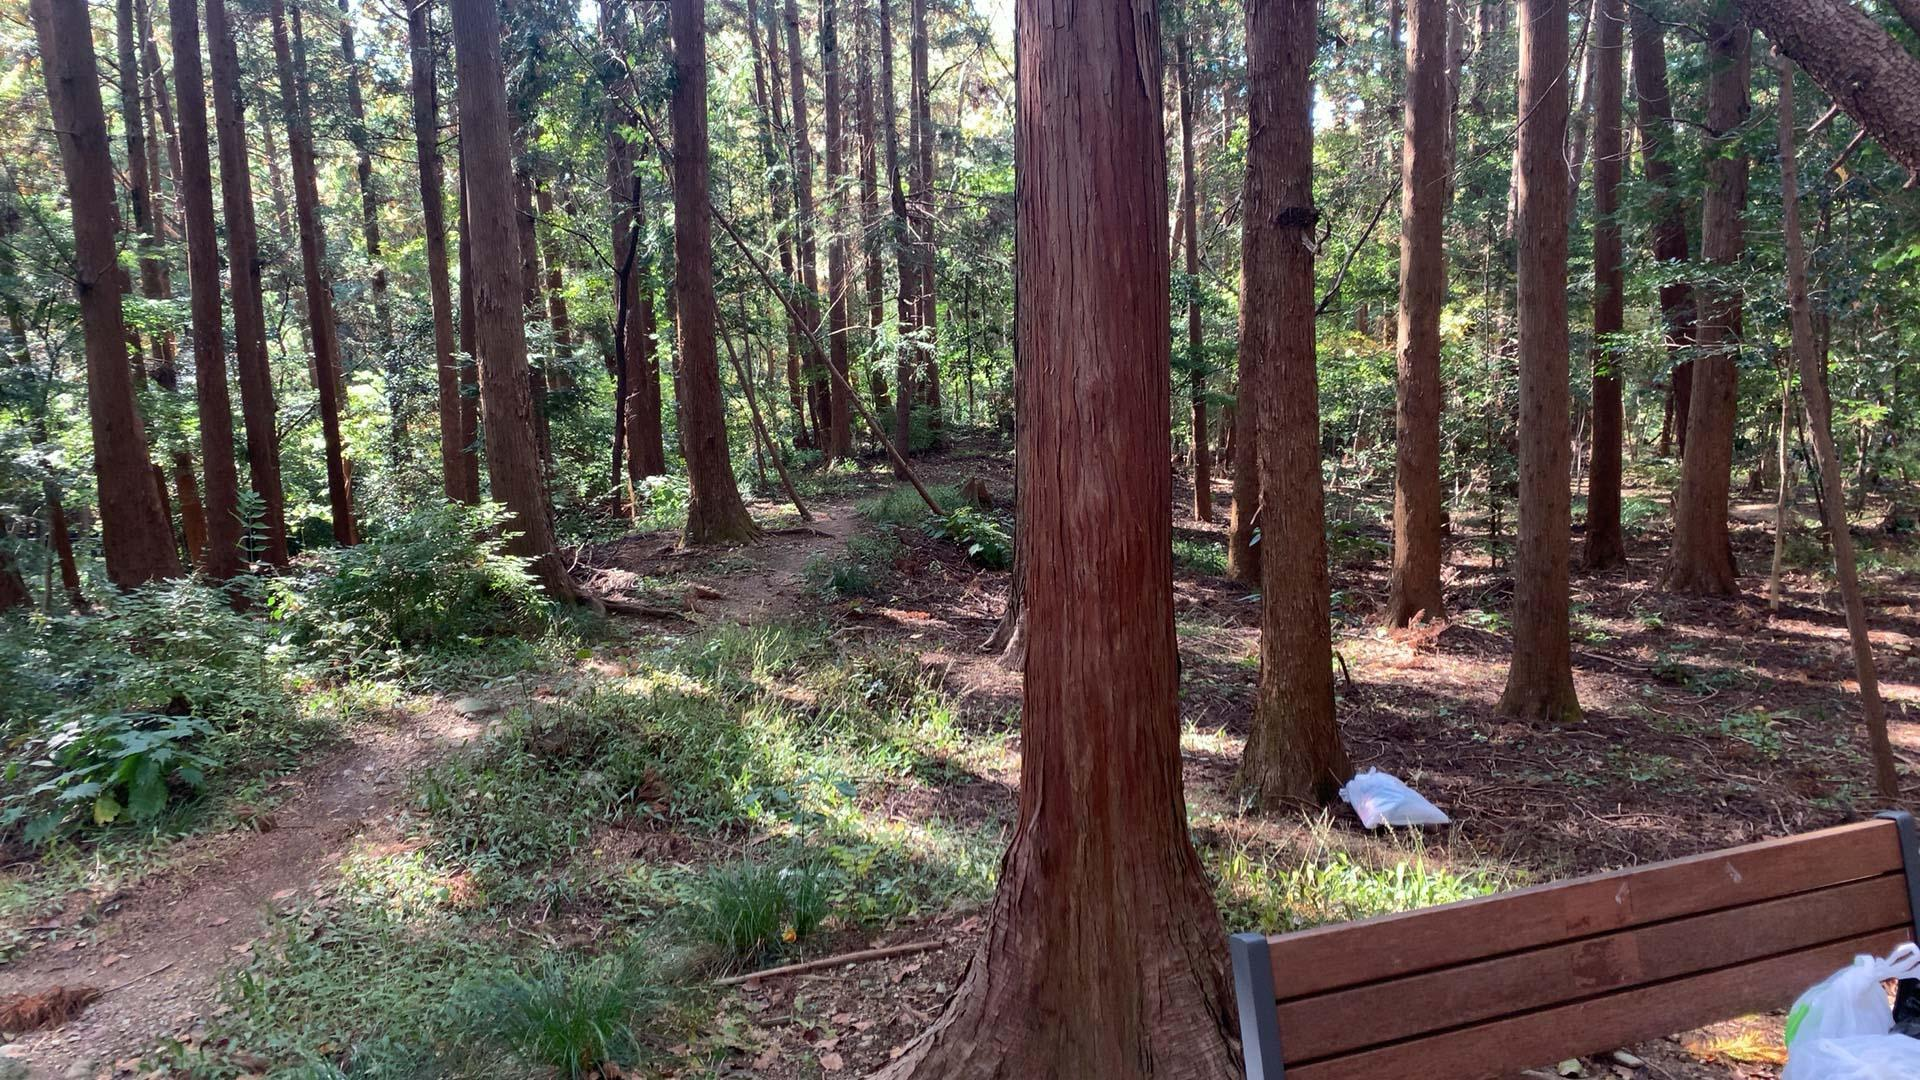white_bag: (1329, 761, 1458, 839)
